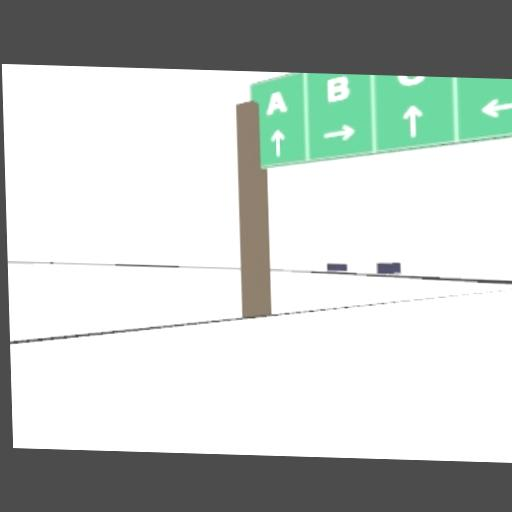A: (265, 90, 287, 114)
B: (325, 74, 350, 102)
C: (396, 76, 424, 87)
Left: (476, 97, 512, 118)
Right: (321, 123, 354, 140)
Straight: (402, 105, 423, 137), (269, 129, 285, 155)
